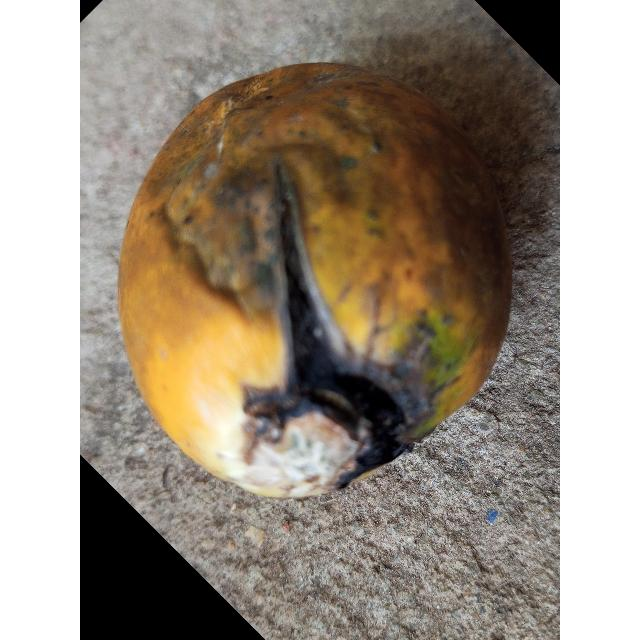damaged: (117, 62, 514, 502)
